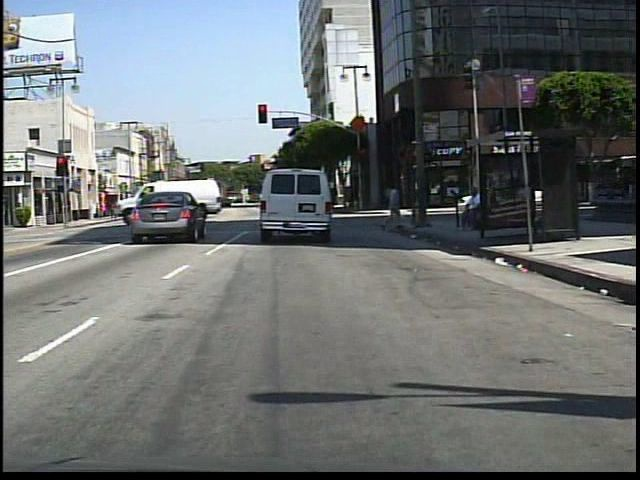person: (379, 178, 406, 235), (460, 186, 485, 235), (133, 193, 148, 218)
